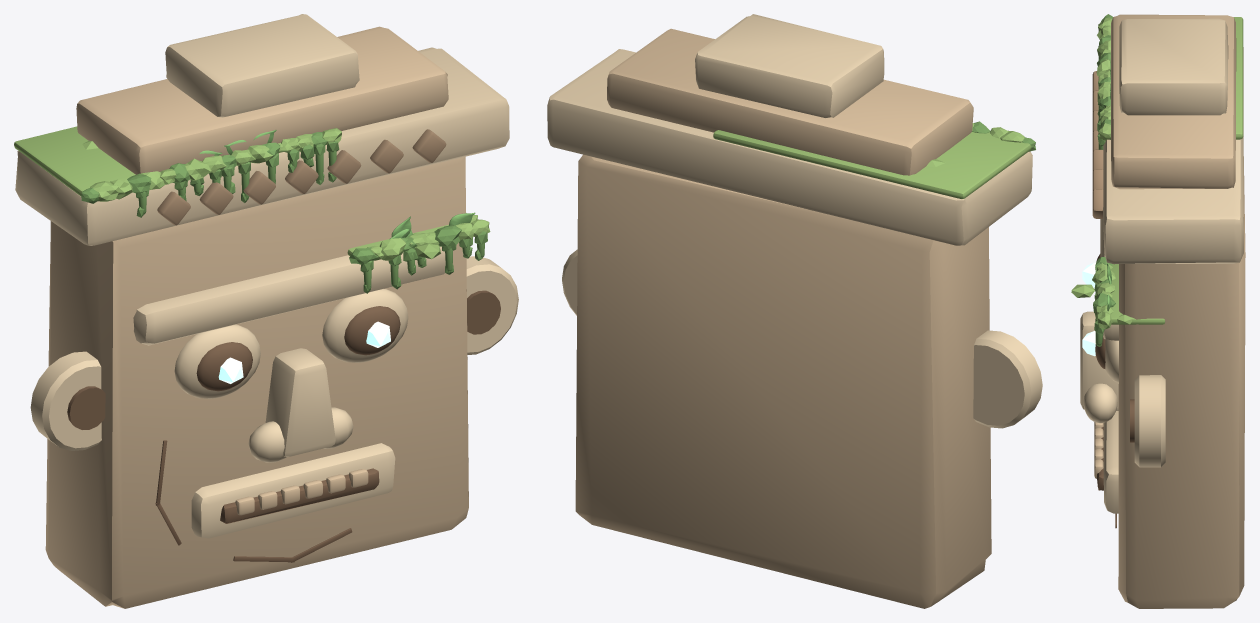
File: bg_statue.glb
3 views of the same model, side by side, from view 1: azimuth 30°, elevation 25°; view 2: azimuth 150°, elevation 25°; view 3: azimuth 270°, elevation 25° (orthographic). The views are drawn at different scales.
Parts seen in each view (by area): view 1: bg_statue; view 2: bg_statue; view 3: bg_statue.
Boxes of the visible parts, x1,y1,x2,y2 form: bg_statue: (14, 14, 518, 608); bg_statue: (547, 14, 1042, 608); bg_statue: (1071, 14, 1245, 608).
Bounding box in the file's own units: 3.36 × 3.43 × 1.12.
